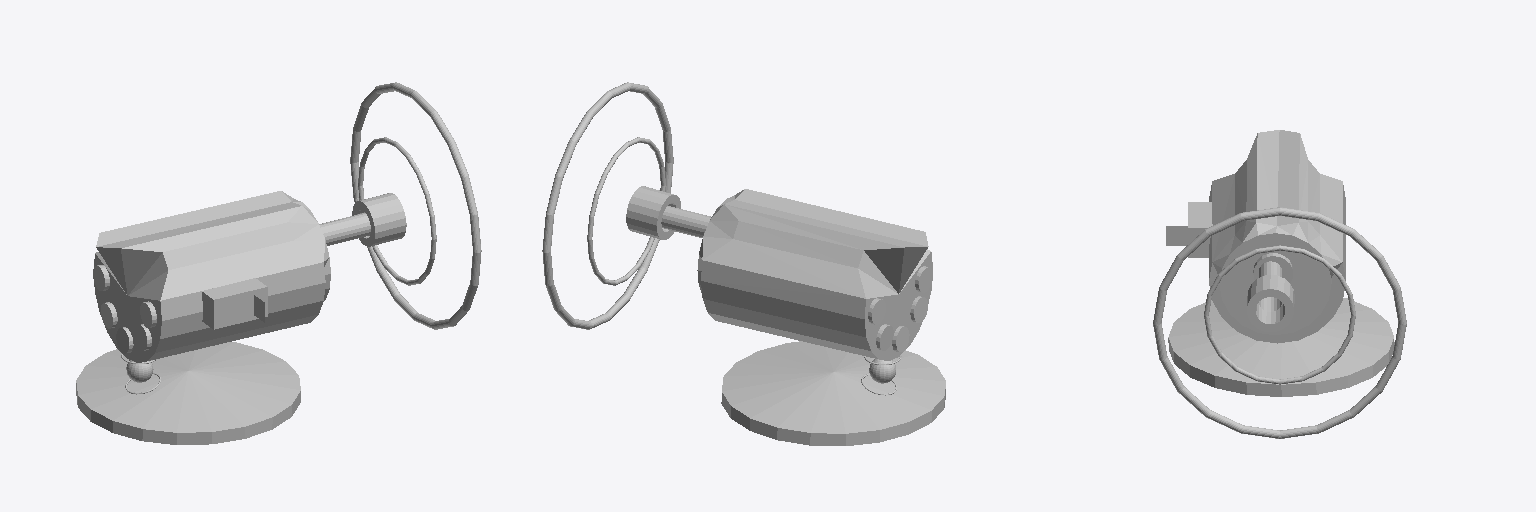
The model's file is scifiturret.obj.
3 renders of one model, left to right at view 1: azimuth 30°, elevation 25°; view 2: azimuth 150°, elevation 25°; view 3: azimuth 270°, elevation 25°, orthographic.
Visible parts, largest first — view 1: polySurface2; view 2: polySurface2; view 3: polySurface2.
Boxes of the visible parts, x1=… form: polySurface2: x1=76, y1=82, x2=481, y2=444; polySurface2: x1=542, y1=82, x2=945, y2=445; polySurface2: x1=1153, y1=130, x2=1406, y2=438.
Bounding box in the file's own units: 4.36 × 3.19 × 2.92.